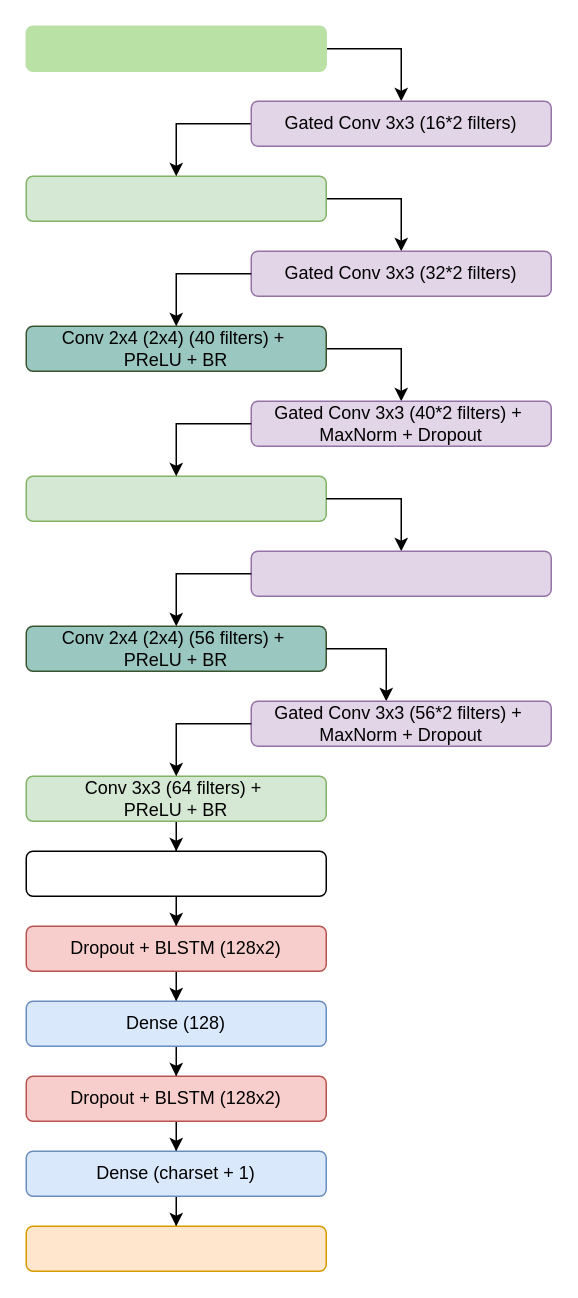
The diagram is 578 pixels wide and 1298 high, and some of its shapes have lost their labels. Here are the shapes that lost their labels. From the top down, the centre of each, then its label:
At (x=175, y=48): "Conv 3x3 (2x2) (16 filters) + PReLU + BR".
At (x=175, y=198): "Conv 3x3 (32 filters) + PReLU + BR".
At (x=175, y=498): "Conv 3x3 (48 filters) + PReLU + BR".
At (x=400, y=573): "Gated Conv 3x3 (48*2 filters) + MaxNorm + Dropout".
At (x=175, y=873): "MaxPooling 1x2 (1x2)".
At (x=175, y=1248): "Softmax".
